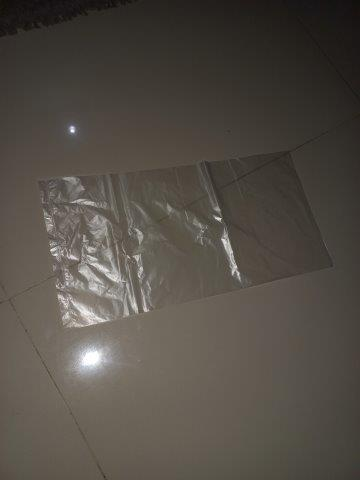plastik: (38, 149, 332, 328)
